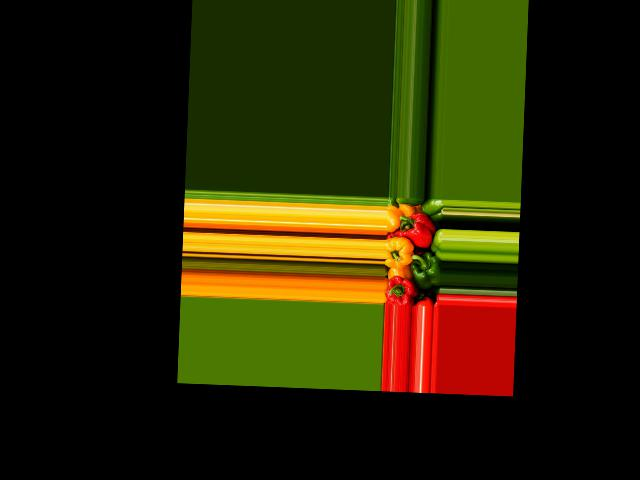bell_pepper: (384, 271, 418, 305)
